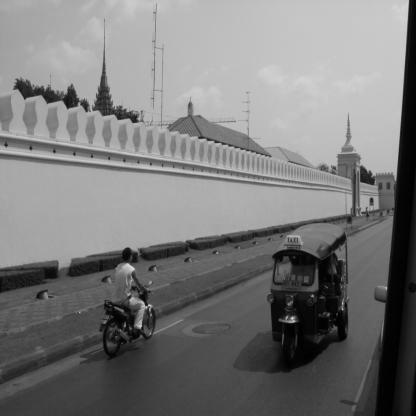moto: (246, 226, 373, 343), (97, 287, 171, 343)
